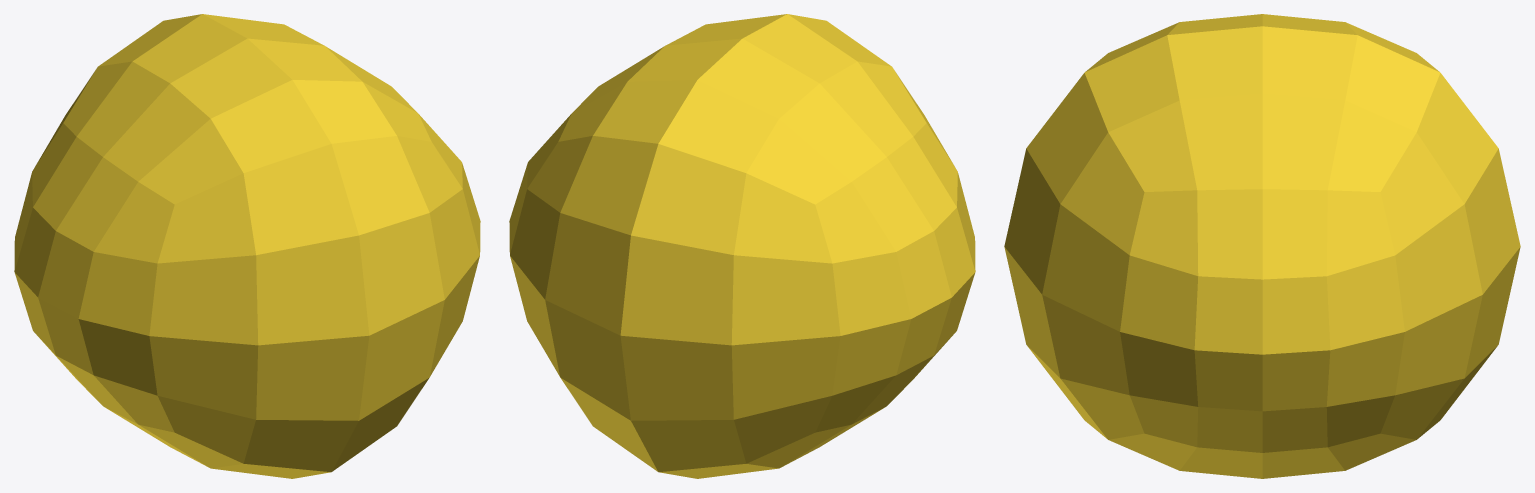
File: Bala-Stun.fbx
The picture shows the model from 3 angles, left to right: view 1: azimuth 30°, elevation 25°; view 2: azimuth 150°, elevation 25°; view 3: azimuth 270°, elevation 25°; orthographic projection. The views are drawn at different scales.
Visible parts, largest first — view 1: Cube.002; view 2: Cube.002; view 3: Cube.002.
Boxes of the visible parts, x1,y1,x2,y2 form: Cube.002: (14, 14, 480, 478); Cube.002: (509, 14, 975, 478); Cube.002: (1004, 14, 1520, 478).
Size of the model in its own units: 20.46 by 19.42 by 20.64.
